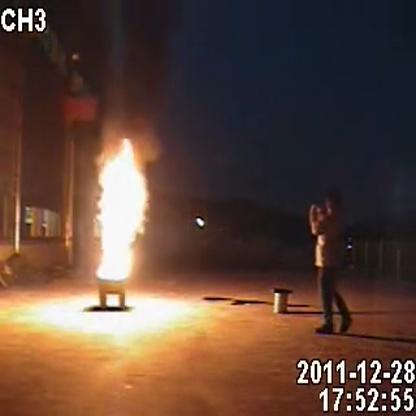Fire: (94, 137, 150, 288)
